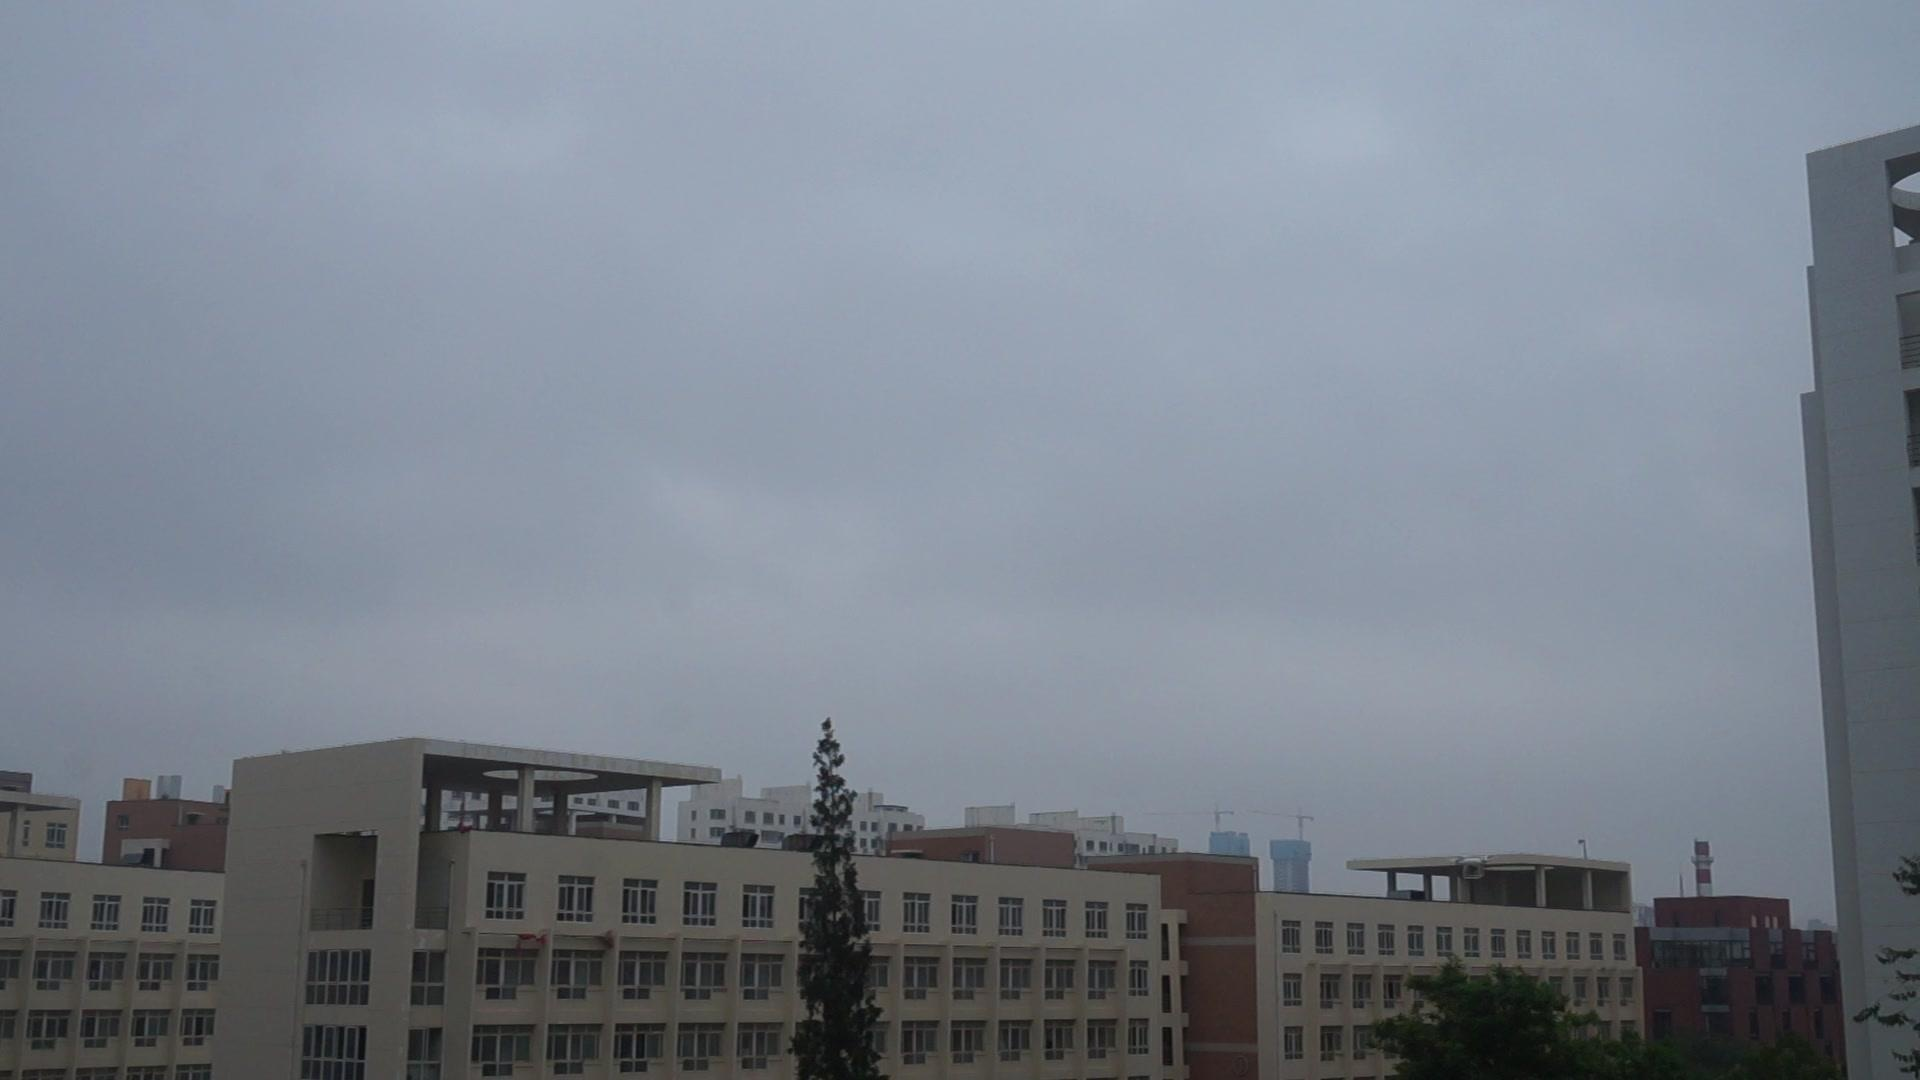UAV: (1452, 856, 1498, 880)
